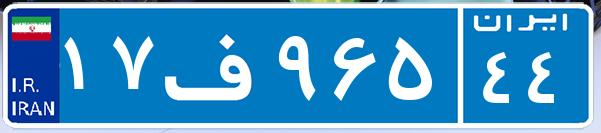1: (57, 26, 110, 107)
4: (475, 38, 525, 113), (525, 38, 570, 115)
5: (385, 28, 445, 110)
6: (330, 28, 385, 110)
7: (110, 28, 158, 105)
9: (273, 28, 330, 110)
ف: (158, 15, 273, 115)
